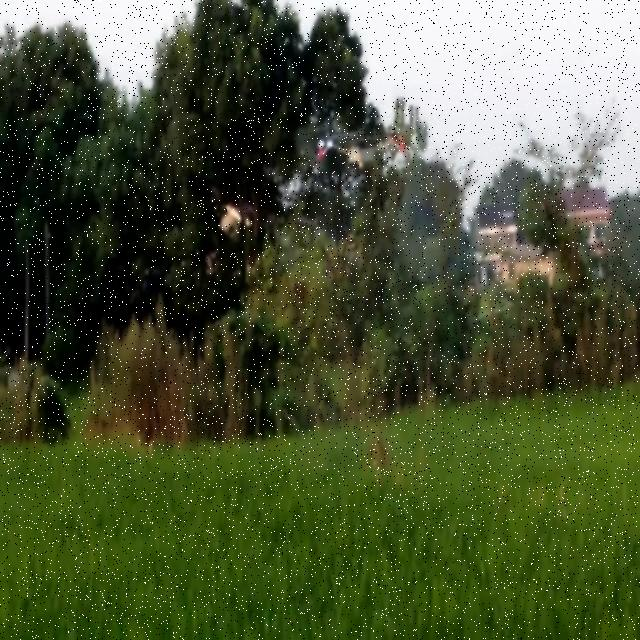UAV: (316, 126, 406, 188)
